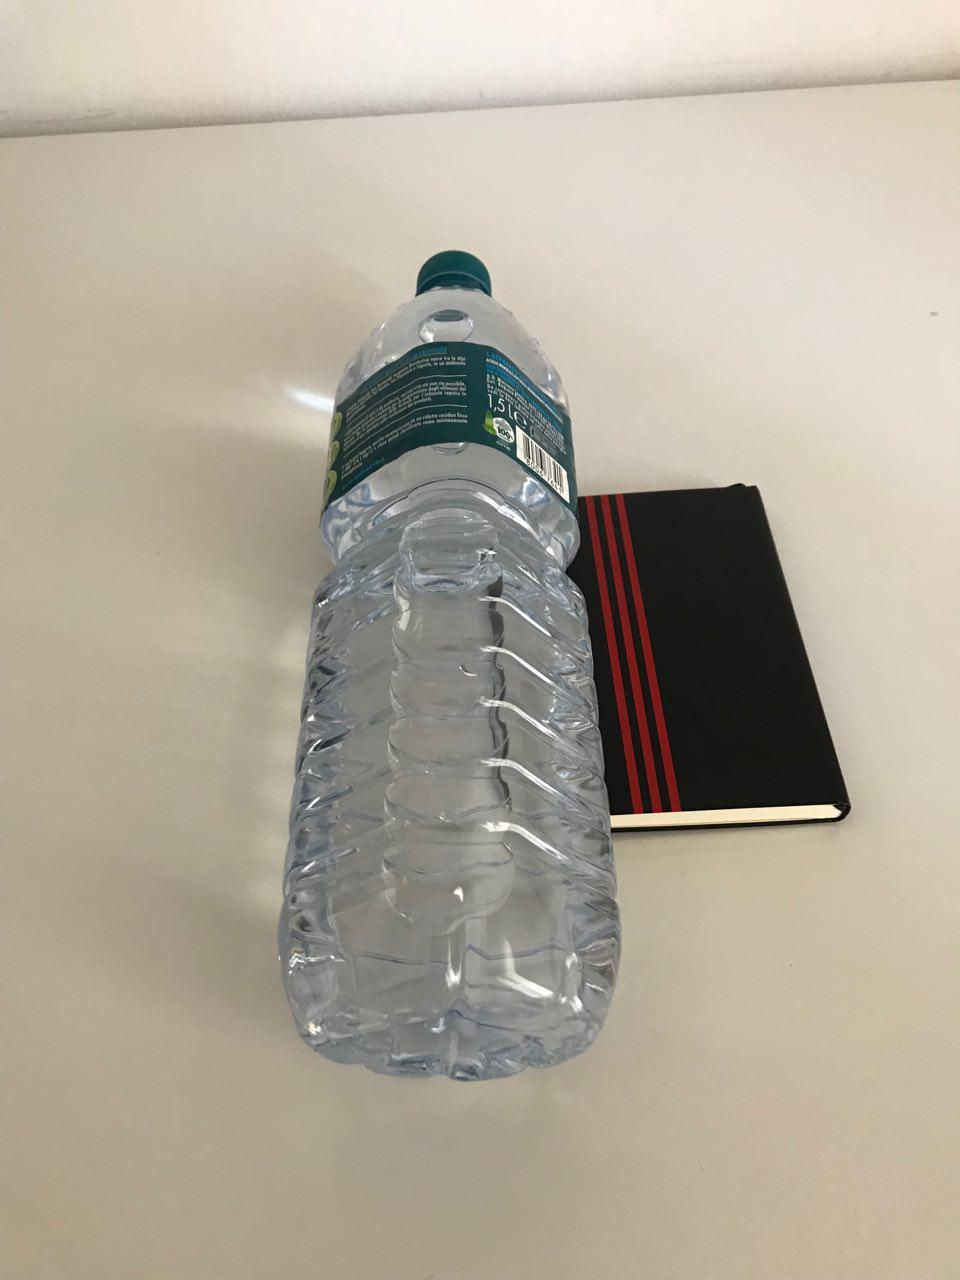san_bernardo: (275, 248, 624, 1086)
